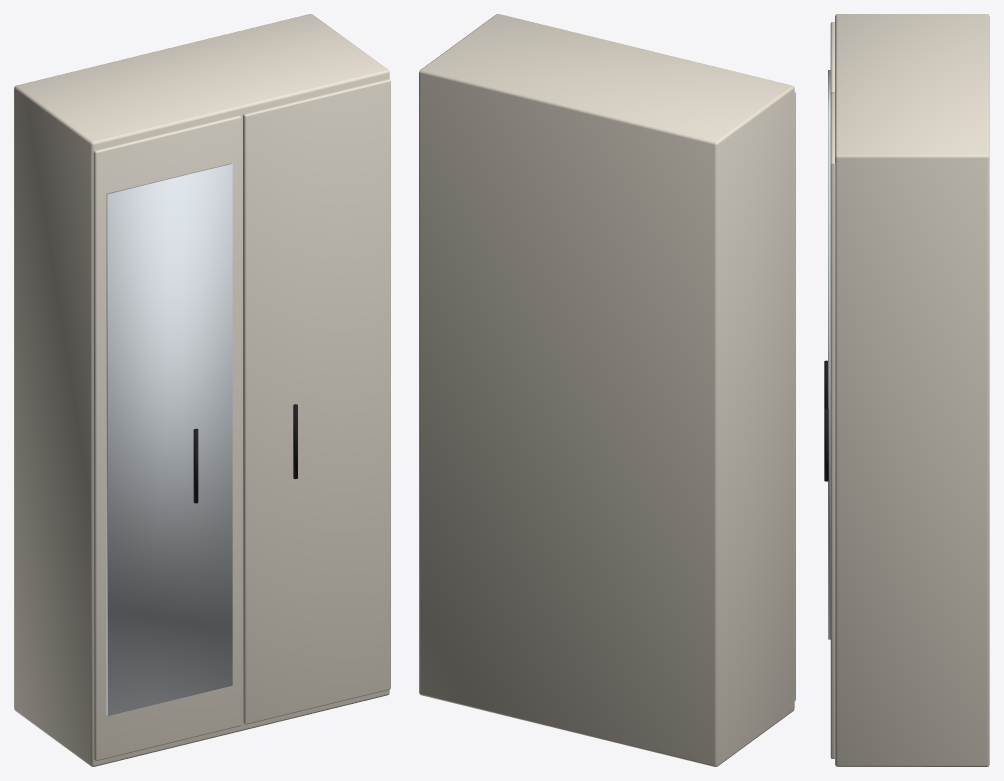
The model's file is bl_wardrobe_120_mirror.glb.
3 renders of one model, left to right at view 1: azimuth 30°, elevation 25°; view 2: azimuth 150°, elevation 25°; view 3: azimuth 270°, elevation 25°, orthographic. The views are drawn at different scales.
Visible parts, largest first — view 1: door1, body, mirror, door0; view 2: body, door0; view 3: body, door1, mirror, handle1, door0.
Boxes of the visible parts, box(x1,y1,x2,y2) form: door1: box(243, 79, 390, 724); body: box(14, 14, 389, 766); mirror: box(106, 163, 232, 715); door0: box(93, 115, 241, 760); body: box(419, 14, 794, 766); door0: box(794, 91, 795, 700); body: box(835, 14, 989, 766); door1: box(830, 93, 835, 758); mirror: box(828, 70, 830, 639); handle1: box(824, 408, 828, 481); door0: box(830, 22, 834, 94).
Bounding box in the file's own units: 1.2 × 2.4 × 0.588.
